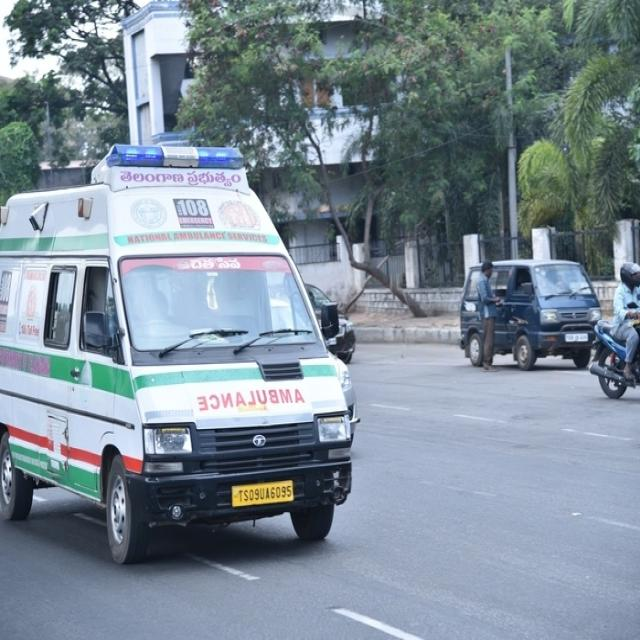car: (460, 259, 600, 369)
emergency: (0, 146, 350, 562)
